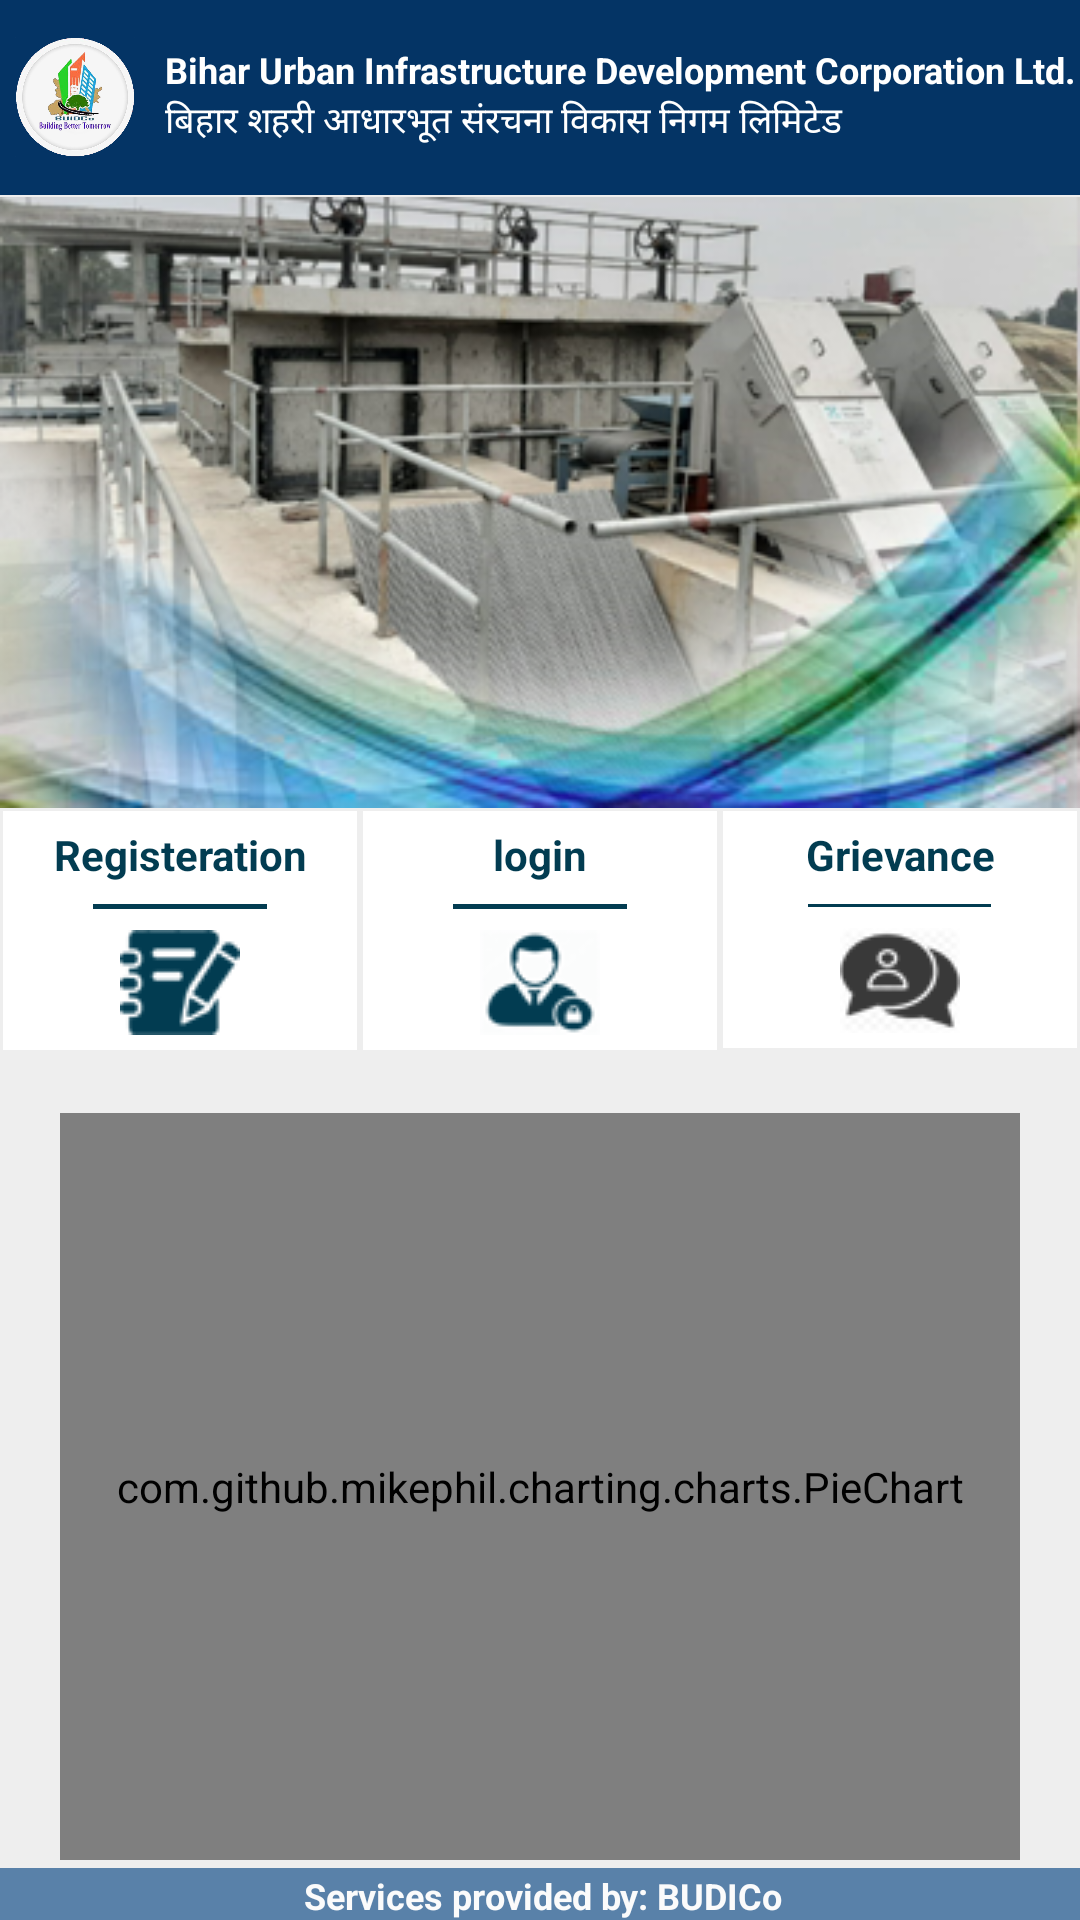

Where icons sit on this 1080×1920 app screen, as (x1, y1, x2, y2):
grivance: (840, 933, 960, 1028)
reg: (120, 930, 240, 1035)
